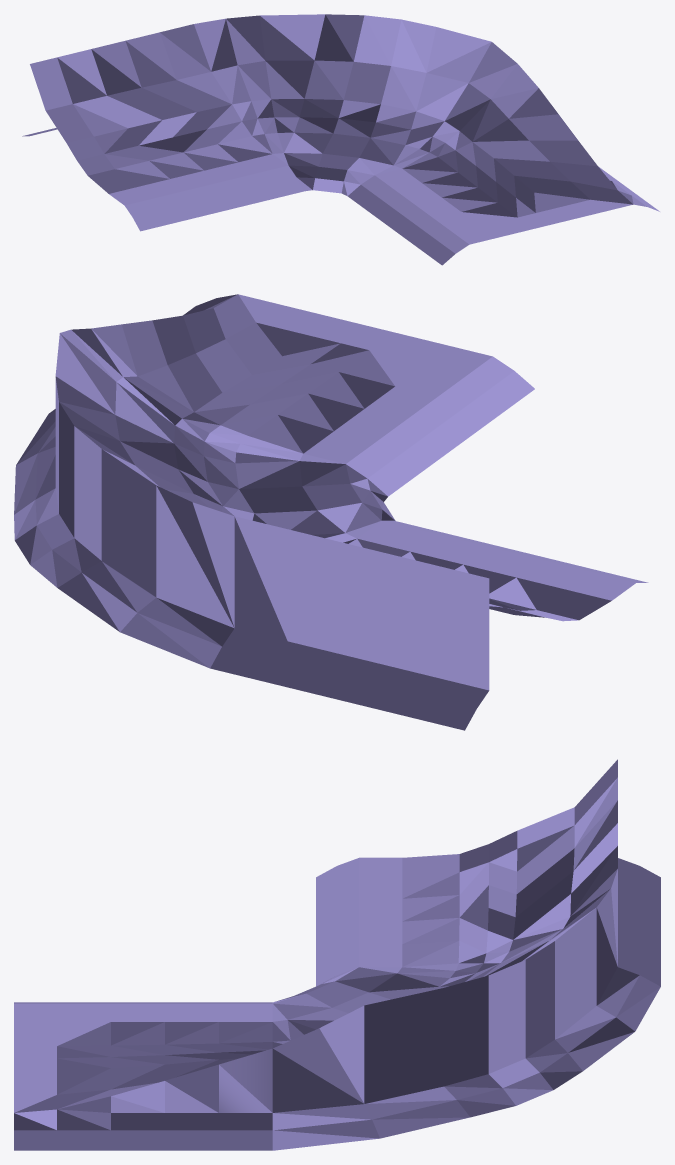
Rendered from RaceTrack18.glb.
The picture shows the model from 3 angles, top to bottom: view 1: azimuth 30°, elevation 25°; view 2: azimuth 150°, elevation 25°; view 3: azimuth 270°, elevation 25°; orthographic projection. The views are drawn at different scales.
Size of the model in its own units: 15 by 3.02 by 15.
